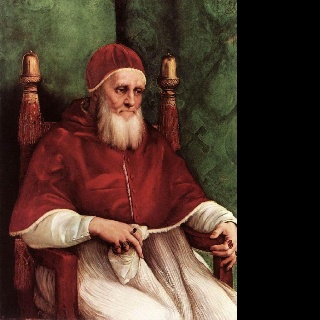without_mask: (101, 69, 146, 120)
